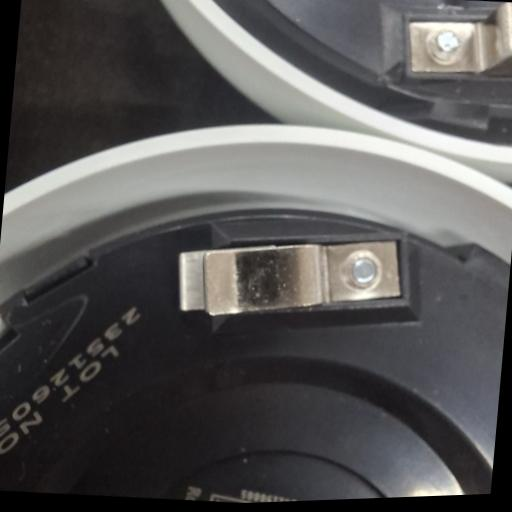yayli: (172, 220, 408, 338)
